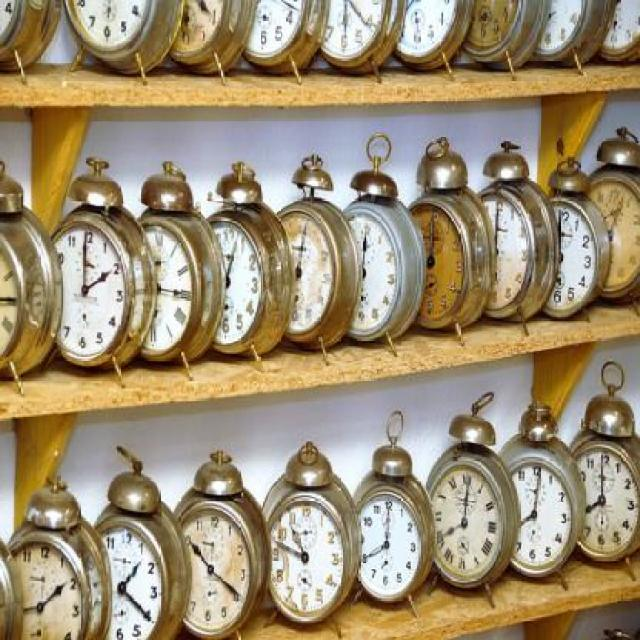clock: (262, 501, 346, 615), (51, 226, 120, 352), (181, 509, 248, 631), (429, 467, 497, 583), (359, 499, 417, 595)
